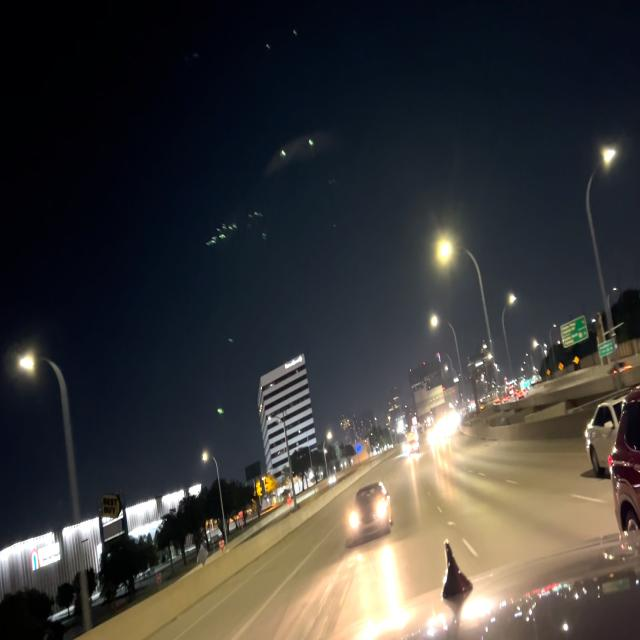back-of-sign: (412, 383, 446, 418)
